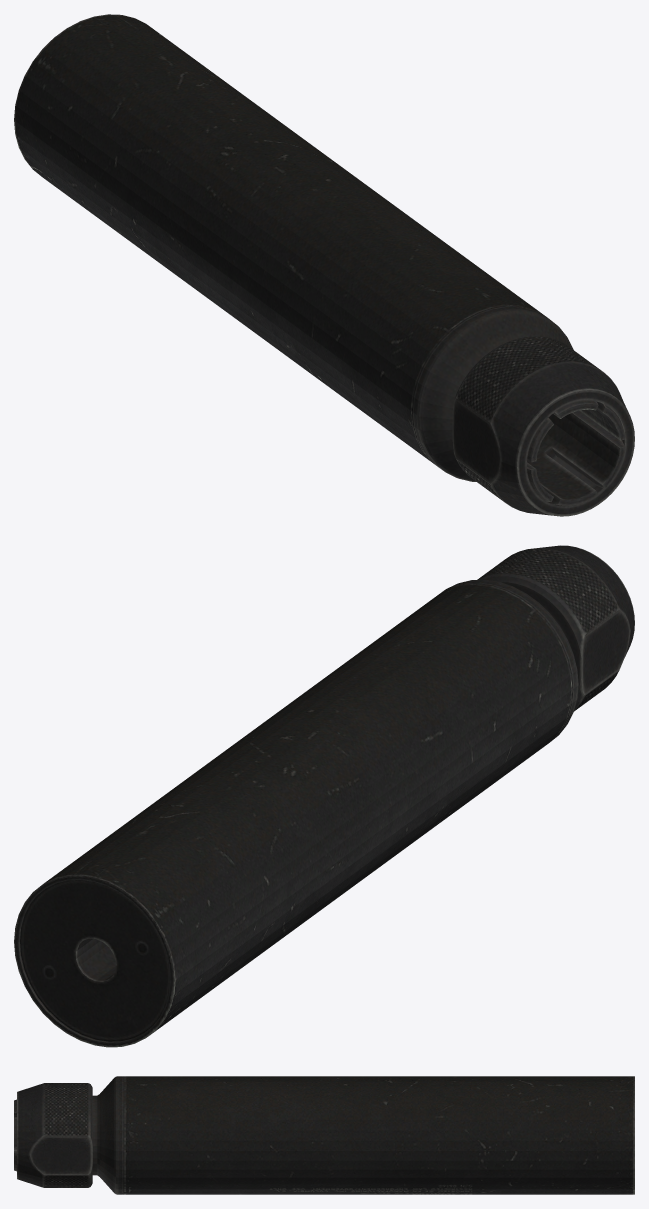
3 views of the same model, one above another, from view 1: azimuth 30°, elevation 25°; view 2: azimuth 150°, elevation 25°; view 3: azimuth 270°, elevation 25° (orthographic). The views are drawn at different scales.
Parts seen in each view (by area): view 1: TW_5cebec00d7f00c065c53522a_PZ_Import; view 2: TW_5cebec00d7f00c065c53522a_PZ_Import; view 3: TW_5cebec00d7f00c065c53522a_PZ_Import.
Boxes of the visible parts, <box> form: TW_5cebec00d7f00c065c53522a_PZ_Import: <box>14,14,634,516</box>; TW_5cebec00d7f00c065c53522a_PZ_Import: <box>14,545,634,1047</box>; TW_5cebec00d7f00c065c53522a_PZ_Import: <box>14,1076,634,1194</box>.
Bounding box in the file's own units: 0.0224 × 0.1168 × 0.0224.
1 material, 1 textured.
